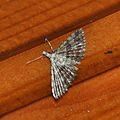Alucitidae: (25, 25, 89, 101)
moth: (23, 23, 87, 99)
